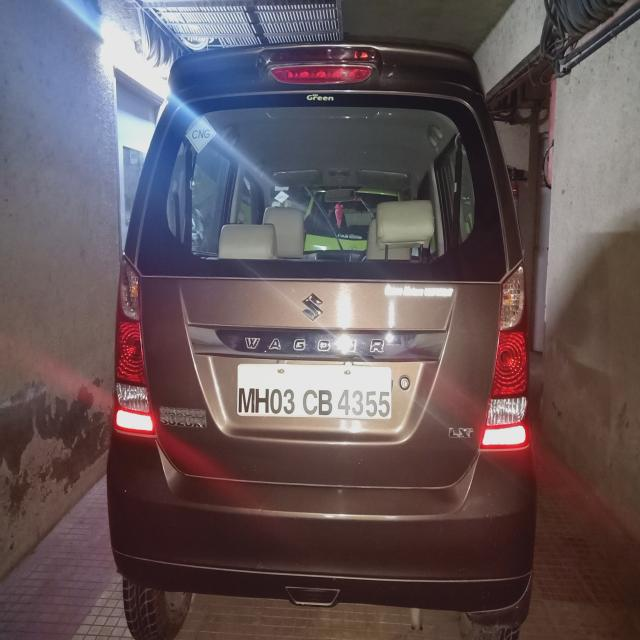Number-Plate: (238, 369, 393, 422)
